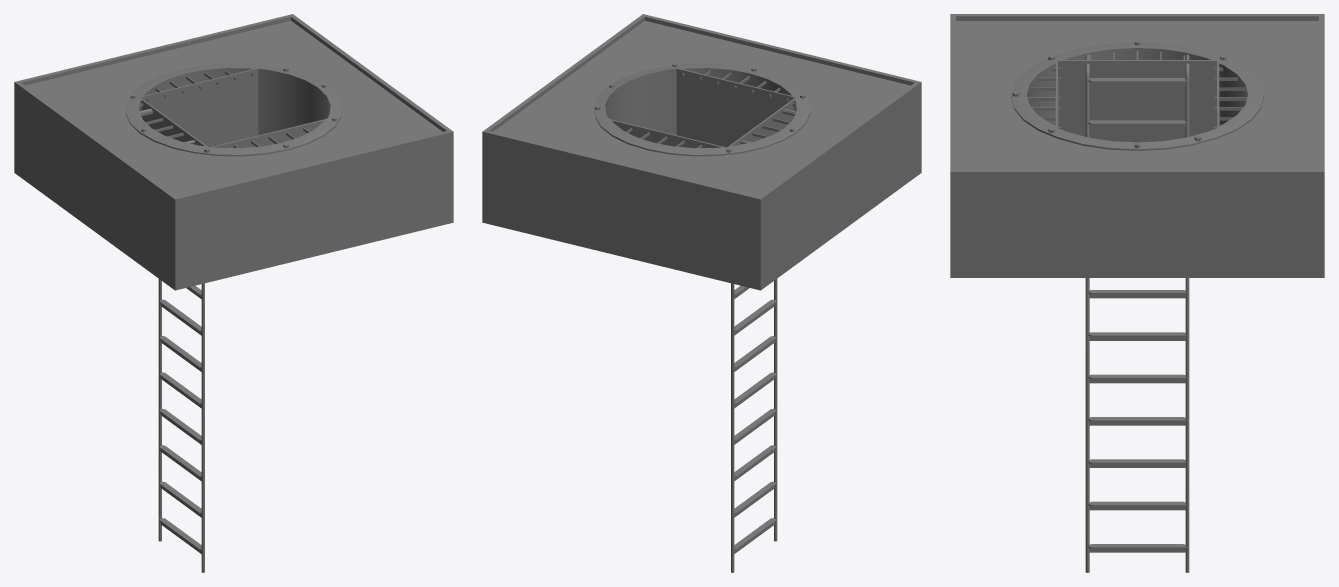
File: tesla_modules1_floor_hatch_01.dae
3 renders of one model, left to right at view 1: azimuth 30°, elevation 25°; view 2: azimuth 150°, elevation 25°; view 3: azimuth 270°, elevation 25°, orthographic. The views are drawn at different scales.
Visible parts, largest first — view 1: tesla_modules1_floor_hatch_01; view 2: tesla_modules1_floor_hatch_01; view 3: tesla_modules1_floor_hatch_01.
Part boxes in pixels (x1,y1,x2,y2): tesla_modules1_floor_hatch_01: [14, 14, 453, 572]; tesla_modules1_floor_hatch_01: [482, 14, 921, 572]; tesla_modules1_floor_hatch_01: [950, 14, 1324, 572].
Size of the model in its own units: 4 by 6 by 4.
